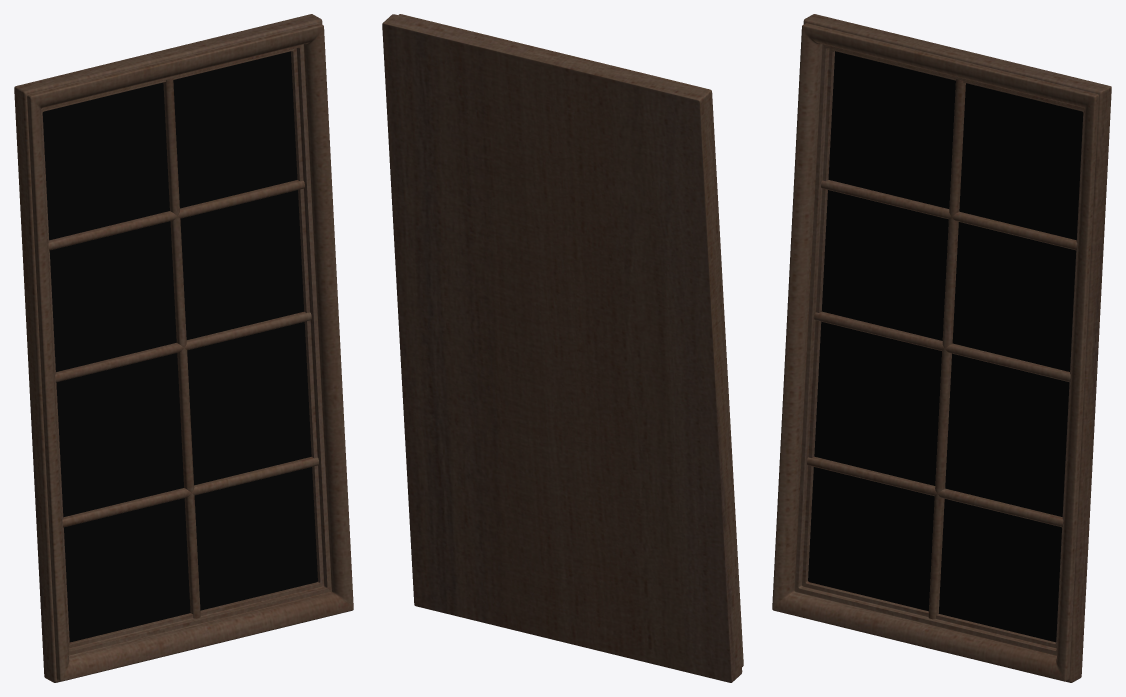
The model's file is mirror3.FBX.
3 renders of one model, left to right at view 1: azimuth 30°, elevation 25°; view 2: azimuth 150°, elevation 25°; view 3: azimuth 330°, elevation 25°, orthographic. The views are drawn at different scales.
Parts seen in each view (by area): view 1: 05 Wood Leaning Mirror.Shape; view 2: 05 Wood Leaning Mirror.Shape; view 3: 05 Wood Leaning Mirror.Shape.
Boxes of the visible parts, x1,y1,x2,y2 form: 05 Wood Leaning Mirror.Shape: [14, 14, 353, 682]; 05 Wood Leaning Mirror.Shape: [382, 14, 743, 682]; 05 Wood Leaning Mirror.Shape: [772, 14, 1111, 682].
Bounding box in the file's own units: 108 × 198 × 27.71.
2 materials, 1 textured.
